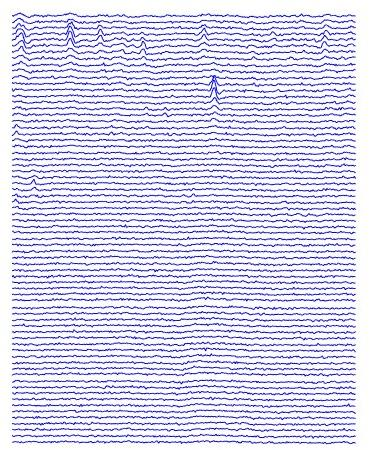defect: (14, 15, 31, 55), (207, 68, 224, 104), (312, 21, 331, 53), (64, 13, 78, 49), (196, 23, 211, 47), (96, 18, 106, 50), (137, 33, 149, 56), (30, 172, 39, 196)
